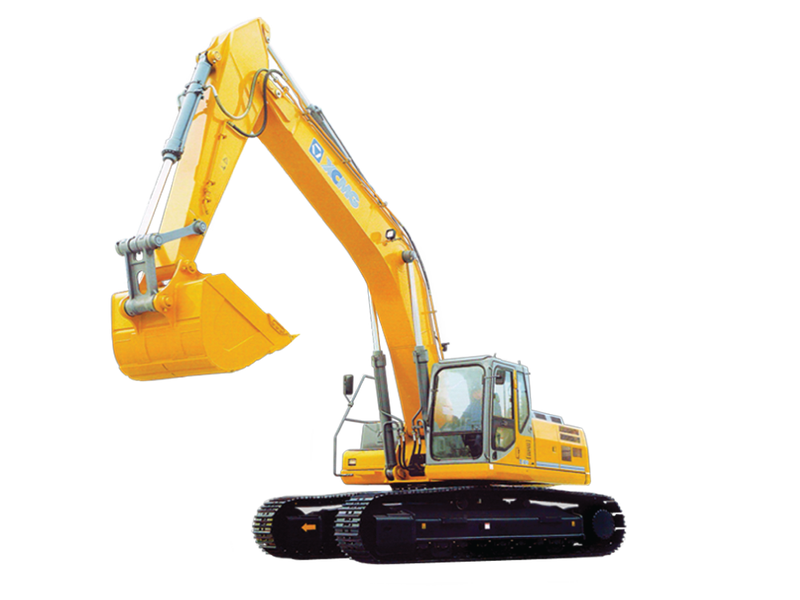shovel: (103, 12, 636, 574)
